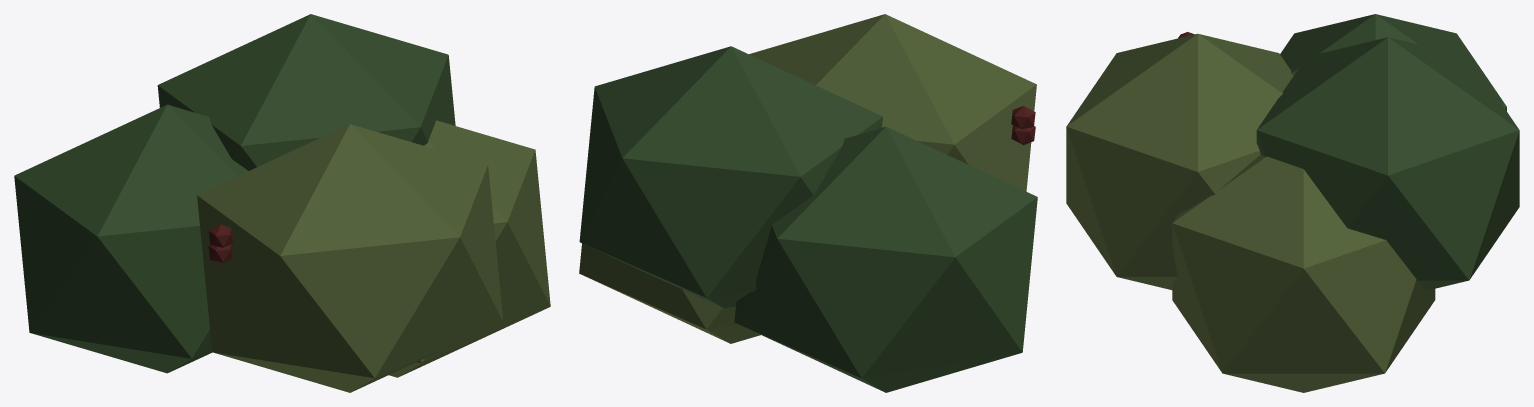
File: SM_ENV_Shrub_02_Berry.glb
3 views of the same model, side by side, from view 1: azimuth 30°, elevation 25°; view 2: azimuth 150°, elevation 25°; view 3: azimuth 270°, elevation 25° (orthographic). The views are drawn at different scales.
Parts seen in each view (by area): view 1: SM_ENV_Shrub_02_Berry; view 2: SM_ENV_Shrub_02_Berry; view 3: SM_ENV_Shrub_02_Berry.
Part boxes in pixels (box(x1,y1,x2,y2)): SM_ENV_Shrub_02_Berry: box(14, 14, 550, 392); SM_ENV_Shrub_02_Berry: box(579, 14, 1037, 392); SM_ENV_Shrub_02_Berry: box(1066, 14, 1519, 392).
Size of the model in its own units: 1.1 by 0.765 by 0.9382.
